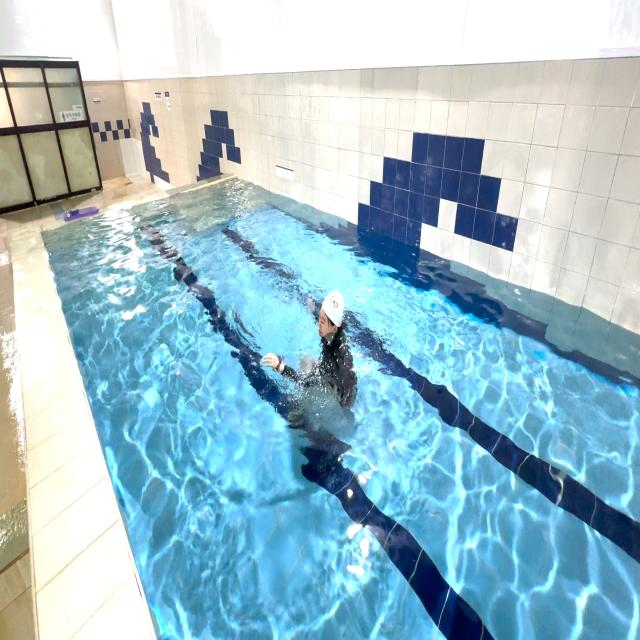Drowning: (257, 287, 372, 410)
